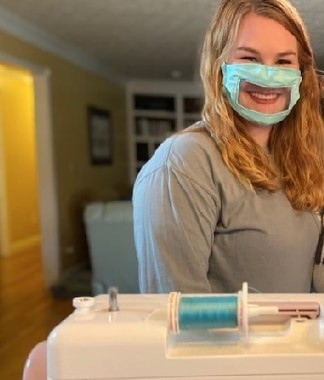with_mask: (209, 6, 318, 132)
